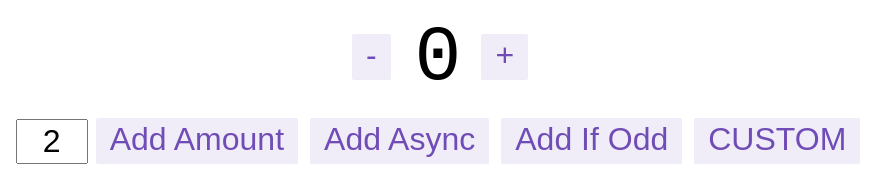
Scenario: Counter › should render increment properly
Expected: the text "0" is shown, [415,14,461,102]
Click the button "+" at [505, 57], box [481,34,528,80]
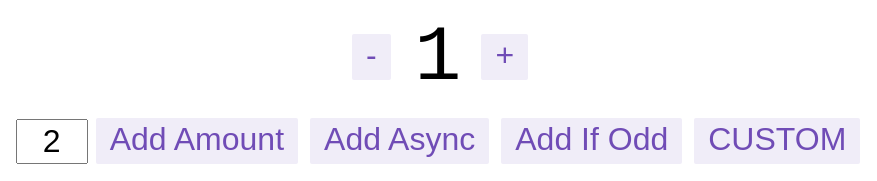
Expected: the text "1" is shown, [415,14,461,102]
